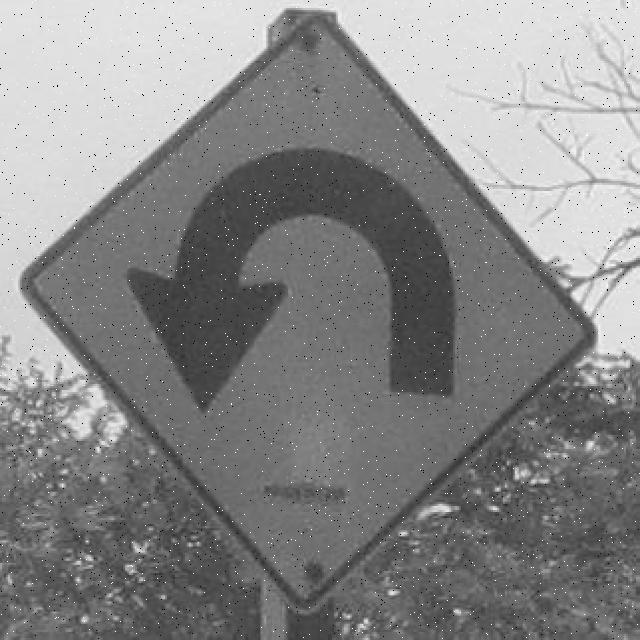Uturn: (21, 11, 598, 594)
